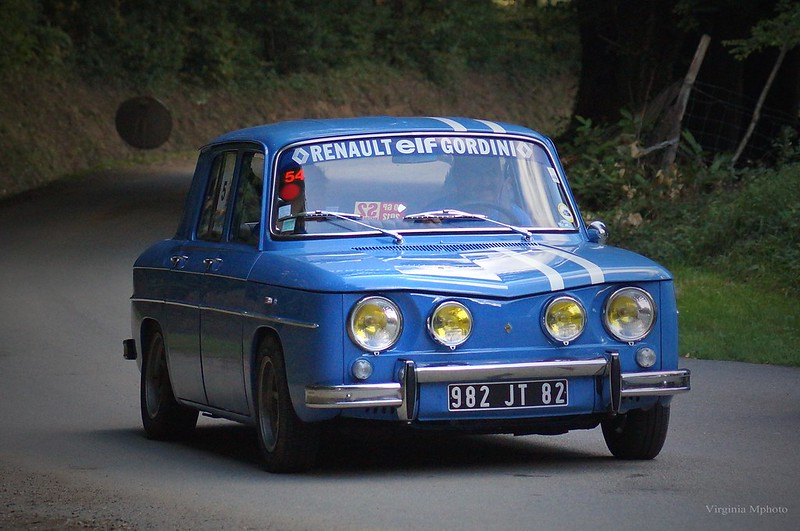car: (113, 114, 695, 467)
